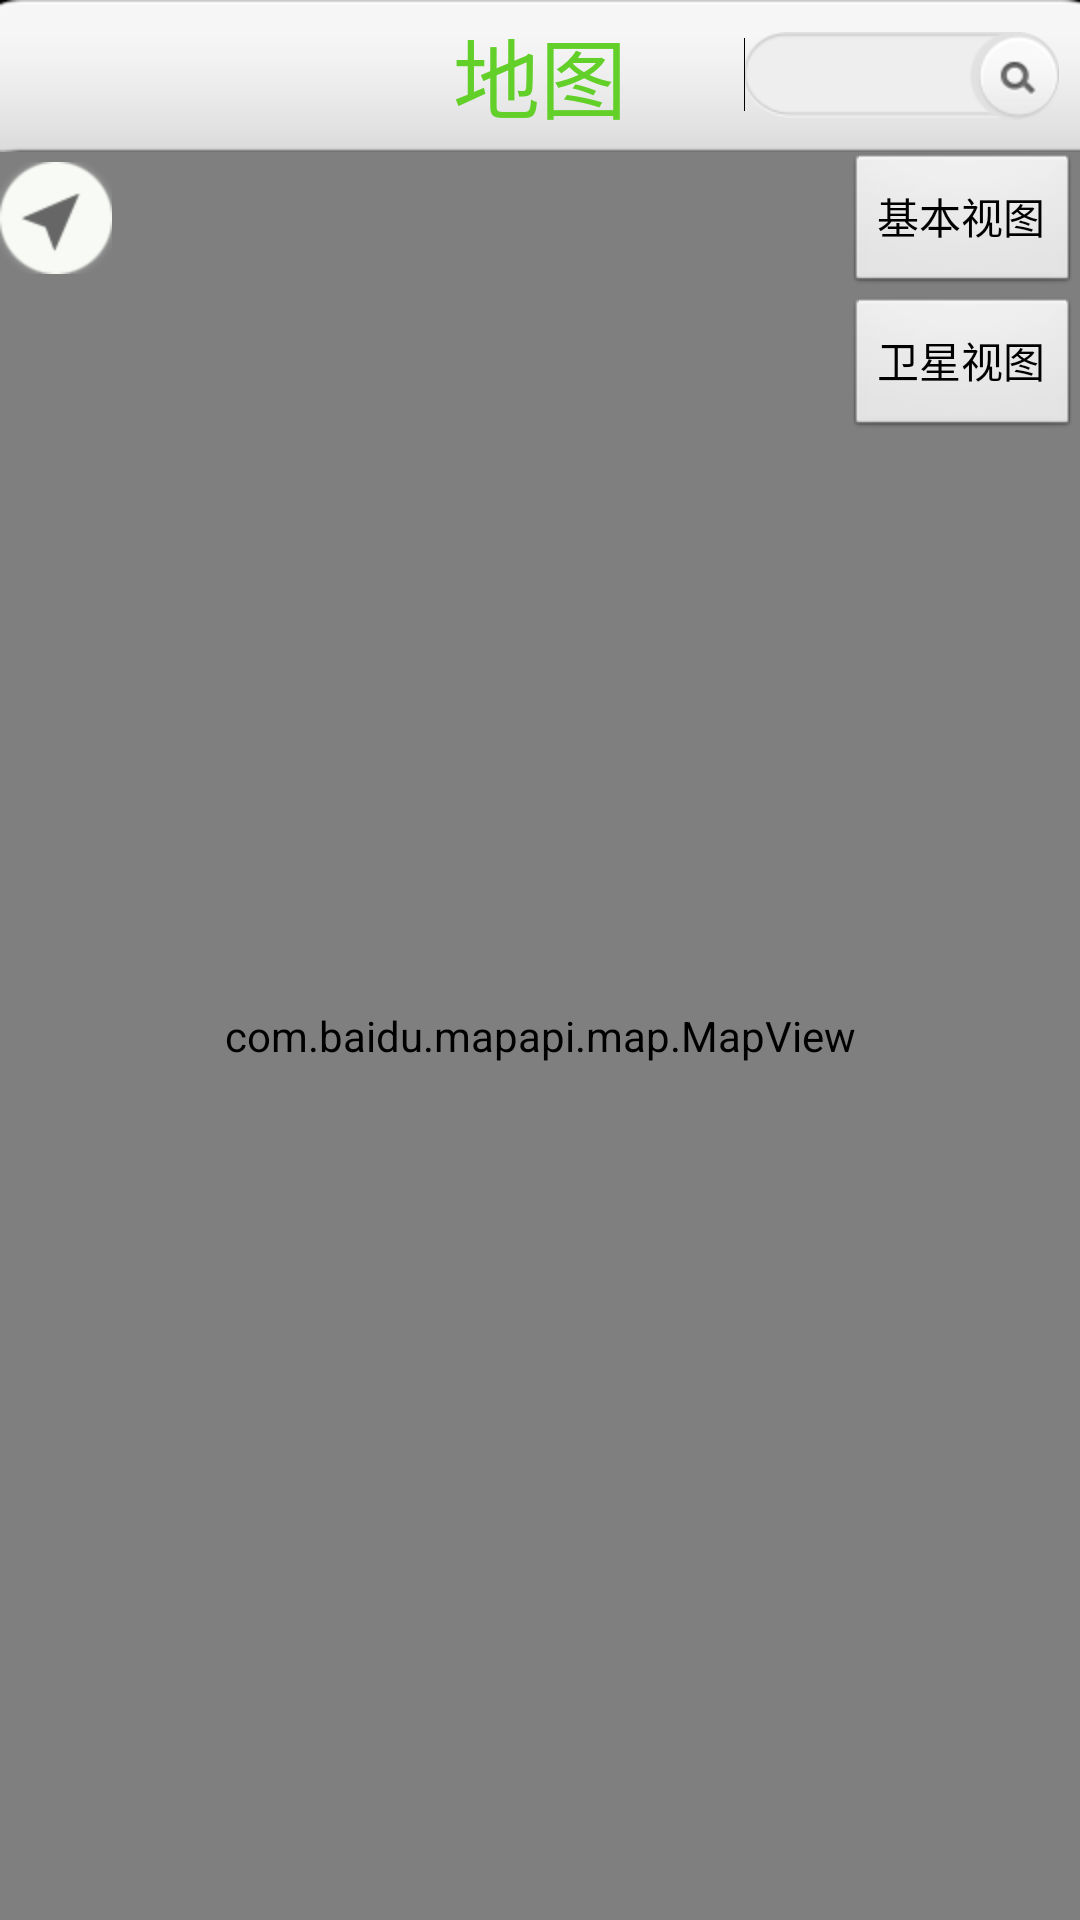

Named icons in this screenshot (1080w x 1920h) and their bounding boxes, (x1, y1, x2, y2):
location: (0, 162, 112, 274)
searchicon: (969, 32, 1059, 118)
